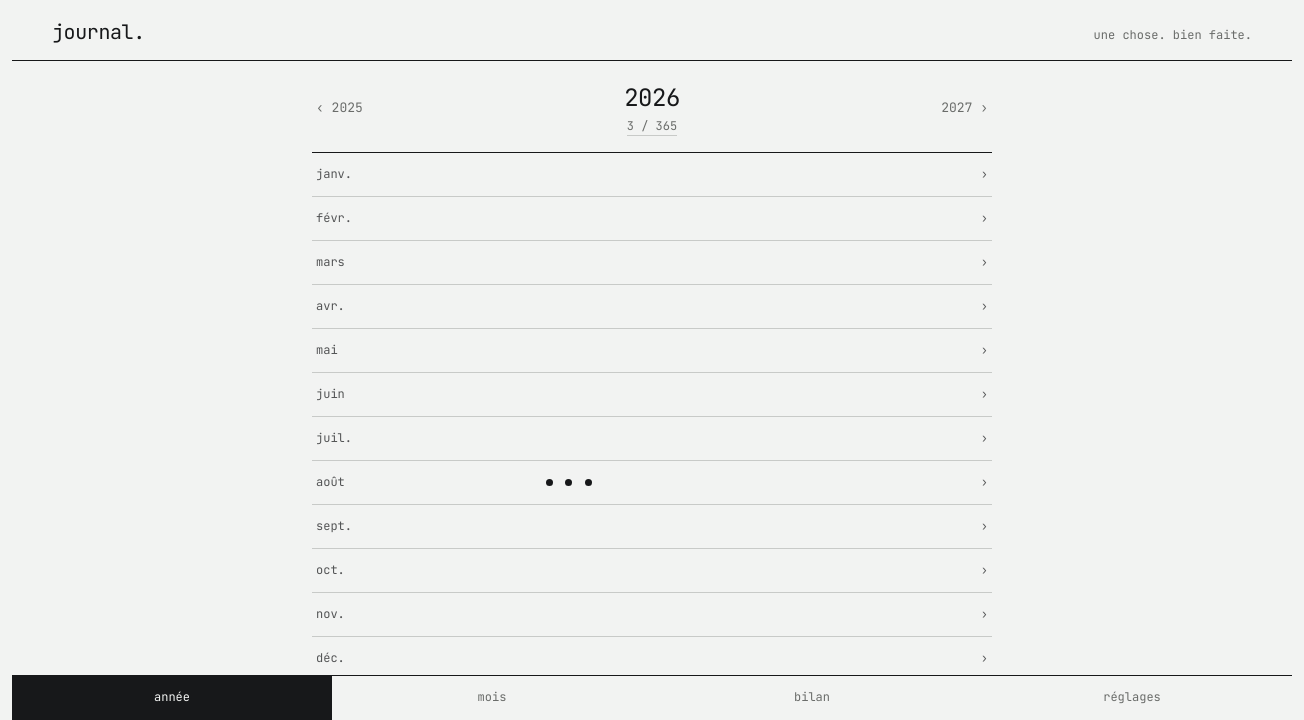
Test: JournalApp › compte la série en cours sans la réclamer
This screenshot has width=1304, height=720.
Click the button "bilan" at (812, 698), box left=652, top=676, right=972, bottom=719
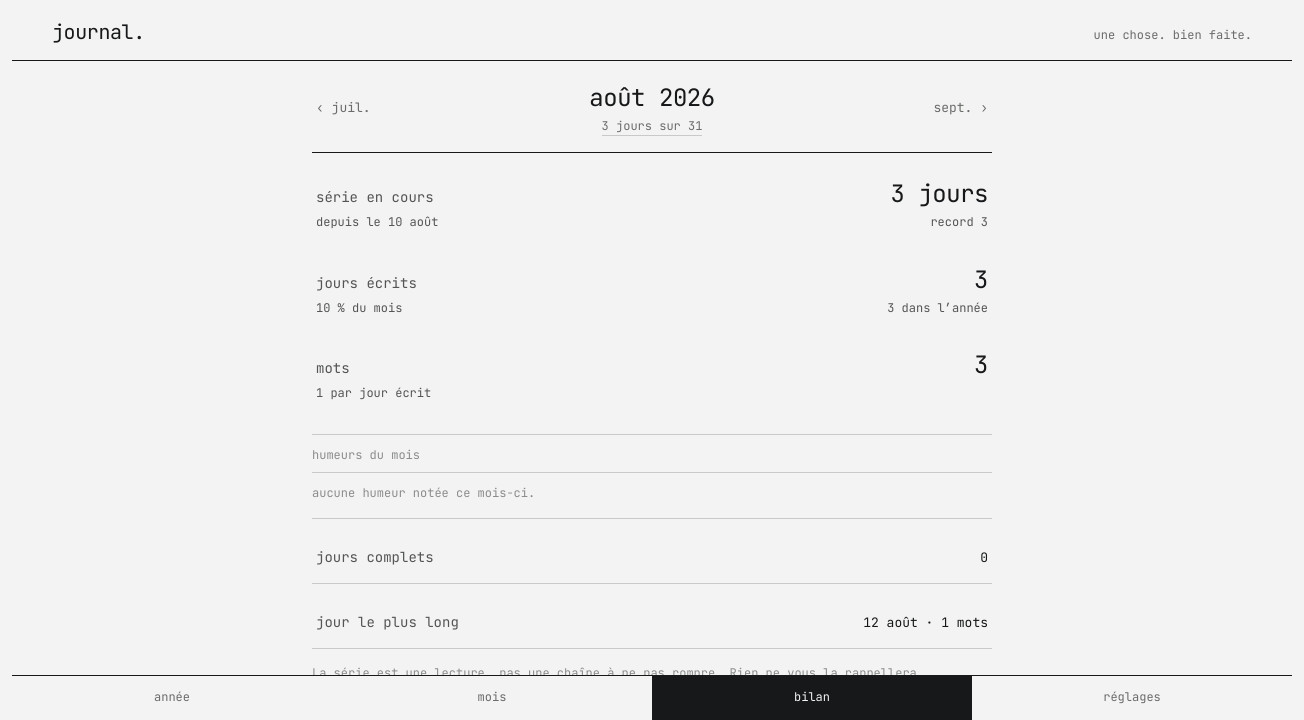
Check: the text "série en cours" is shown, box left=316, top=187, right=434, bottom=208
Check: the text "3 jours" is shown, box left=890, top=177, right=988, bottom=212
Check: the text "depuis le 10 août" is shown, box left=316, top=214, right=438, bottom=231
